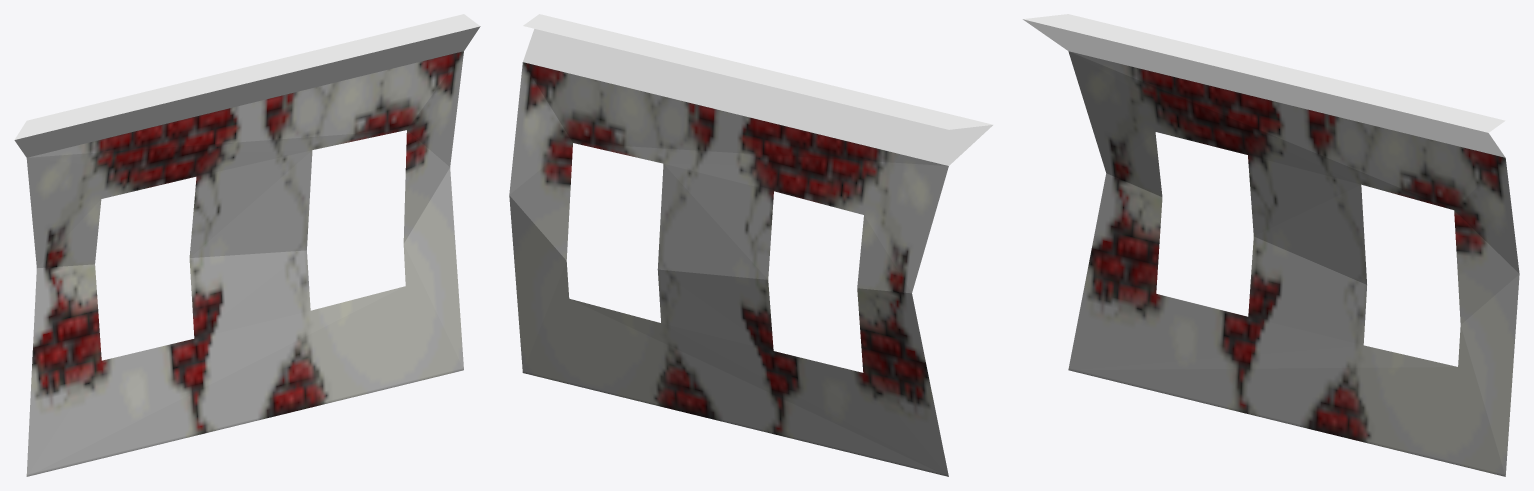
Rendered from W_A2r_ff [Verwahrlost]_339.glb.
3 renders of one model, left to right at view 1: azimuth 30°, elevation 25°; view 2: azimuth 150°, elevation 25°; view 3: azimuth 330°, elevation 25°, orthographic. The views are drawn at different scales.
Parts seen in each view (by area): view 1: polySurfaceShape1183, polySurfaceShape1185; view 2: polySurfaceShape1183, polySurfaceShape1185; view 3: polySurfaceShape1183, polySurfaceShape1185.
Part boxes in pixels (x1=…): polySurfaceShape1183: x1=26, y1=51, x2=463, y2=476; polySurfaceShape1185: x1=14, y1=14, x2=480, y2=157; polySurfaceShape1183: x1=509, y1=62, x2=948, y2=476; polySurfaceShape1185: x1=523, y1=14, x2=993, y2=165; polySurfaceShape1183: x1=1068, y1=51, x2=1519, y2=476; polySurfaceShape1185: x1=1022, y1=14, x2=1505, y2=157.
Size of the model in its own units: 0.5333 by 0.3891 by 0.0607.
2 materials, 1 textured.
